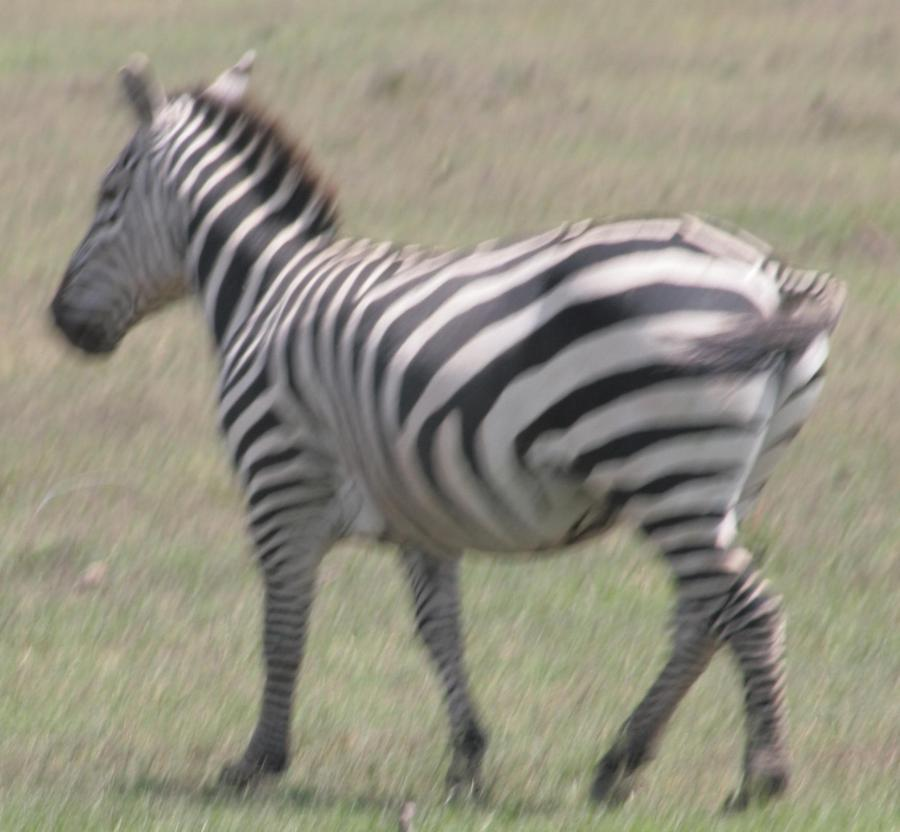zebra_plains: (195, 205, 766, 574)
